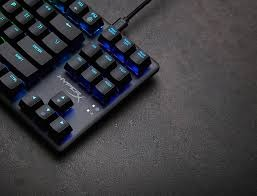keyboard: (2, 0, 165, 163)
